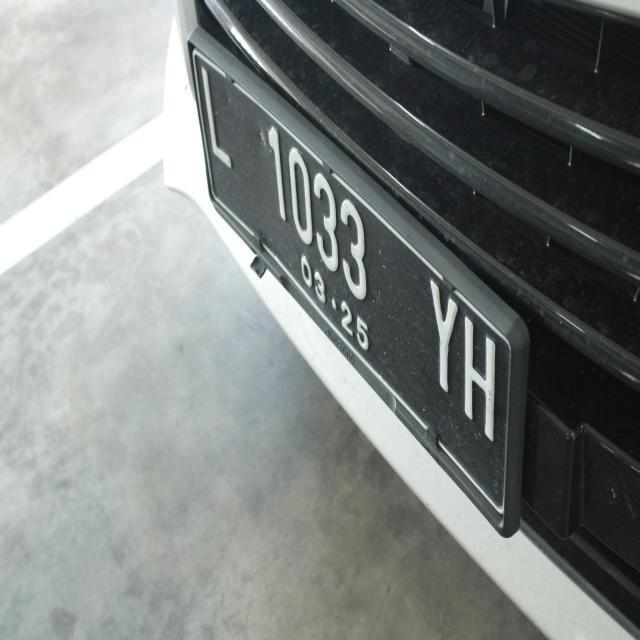0: (284, 143, 316, 255)
1: (258, 111, 292, 226)
3: (340, 186, 374, 324), (310, 168, 340, 288)
H: (457, 302, 500, 444)
L: (190, 60, 239, 184)
Y: (420, 270, 462, 400)
